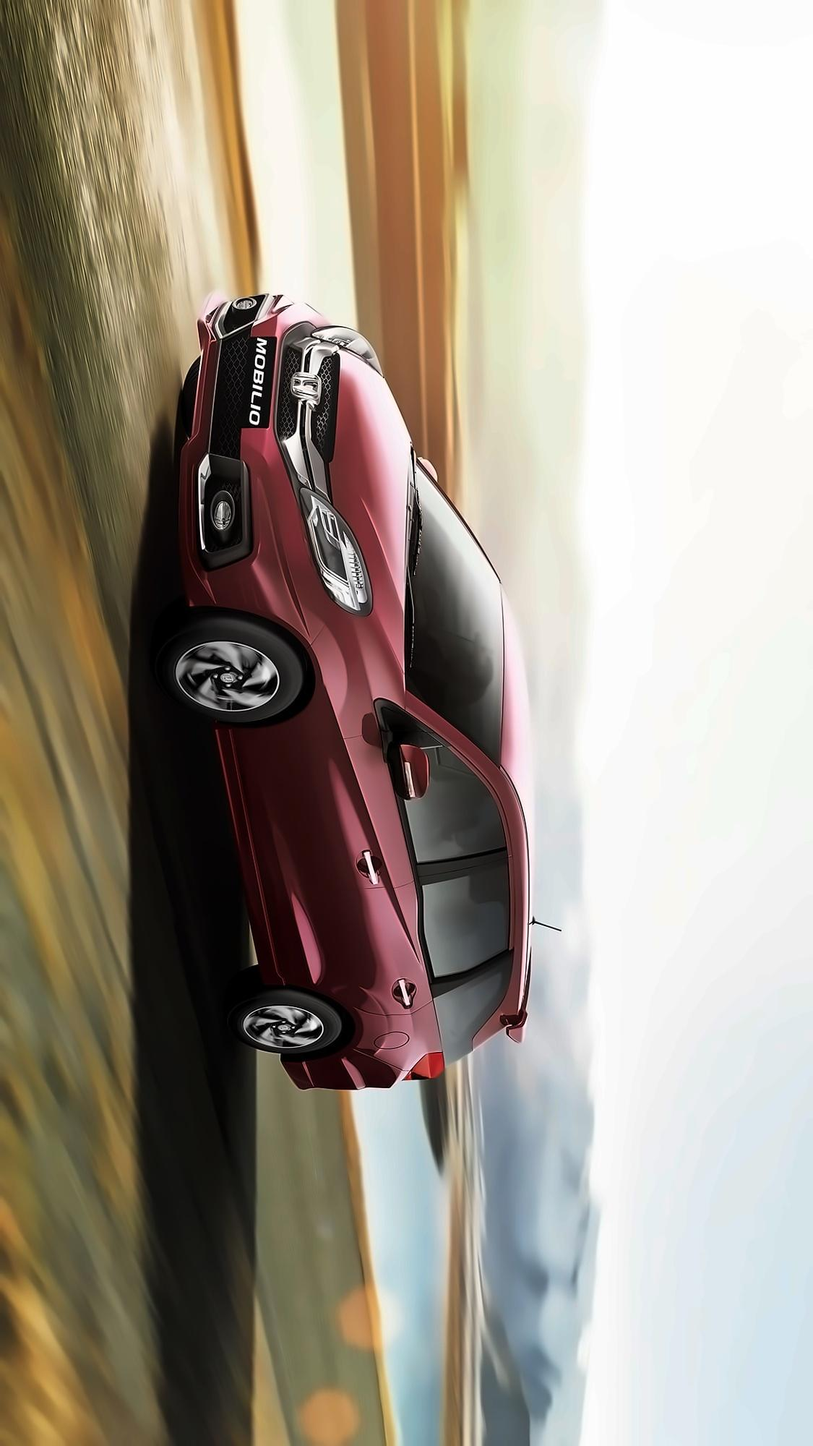Car boot: (325, 347, 415, 676)
Fender - -F-L-: (202, 608, 420, 747)
Fender - -R-L-: (313, 994, 455, 1085)
Front bumper: (174, 284, 310, 623)
Headlight - -L-: (286, 472, 384, 622)
Headlight - -R-: (306, 304, 397, 383)
Passenger-s door - -F-L-: (224, 727, 532, 886)
Passenger-s door - -R-L-: (250, 873, 532, 1012)
Rear bumper: (273, 1040, 414, 1109)
Rear light - -L-: (394, 1044, 461, 1090)
Side bumper - -L-: (203, 712, 300, 1004)
Side mirror - -L-: (382, 720, 443, 812)
Side mirror - -R-: (410, 445, 447, 492)
